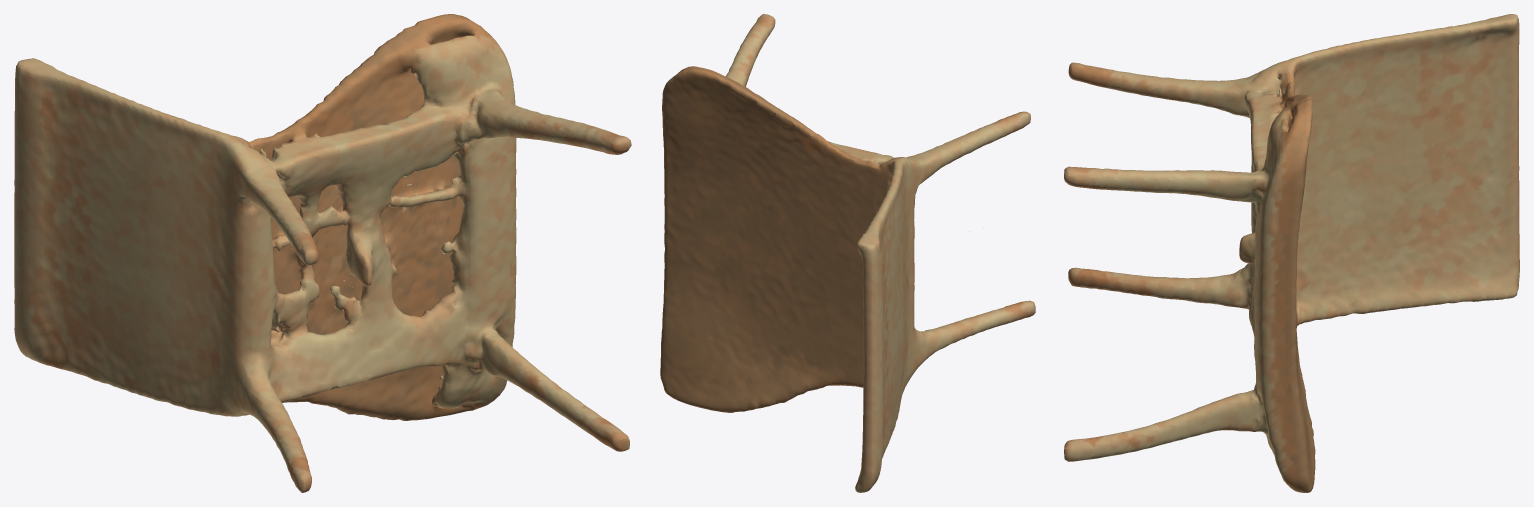
File: A beige wooden rocking chair with a curved back an.glb
3 renders of one model, left to right at view 1: azimuth 30°, elevation 25°; view 2: azimuth 150°, elevation 25°; view 3: azimuth 270°, elevation 25°, orthographic. The views are drawn at different scales.
Parts seen in each view (by area): view 1: A beige wooden rocking chair with a curved back an; view 2: A beige wooden rocking chair with a curved back an; view 3: A beige wooden rocking chair with a curved back an.
Boxes of the visible parts, box(x1,y1,x2,y2) form: A beige wooden rocking chair with a curved back an: box(14, 14, 631, 492); A beige wooden rocking chair with a curved back an: box(660, 14, 1035, 492); A beige wooden rocking chair with a curved back an: box(1064, 14, 1519, 492).
Size of the model in its own units: 0.8922 by 0.903 by 1.
